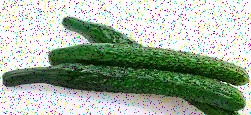cucumber: (64, 19, 247, 82), (1, 67, 243, 109)
